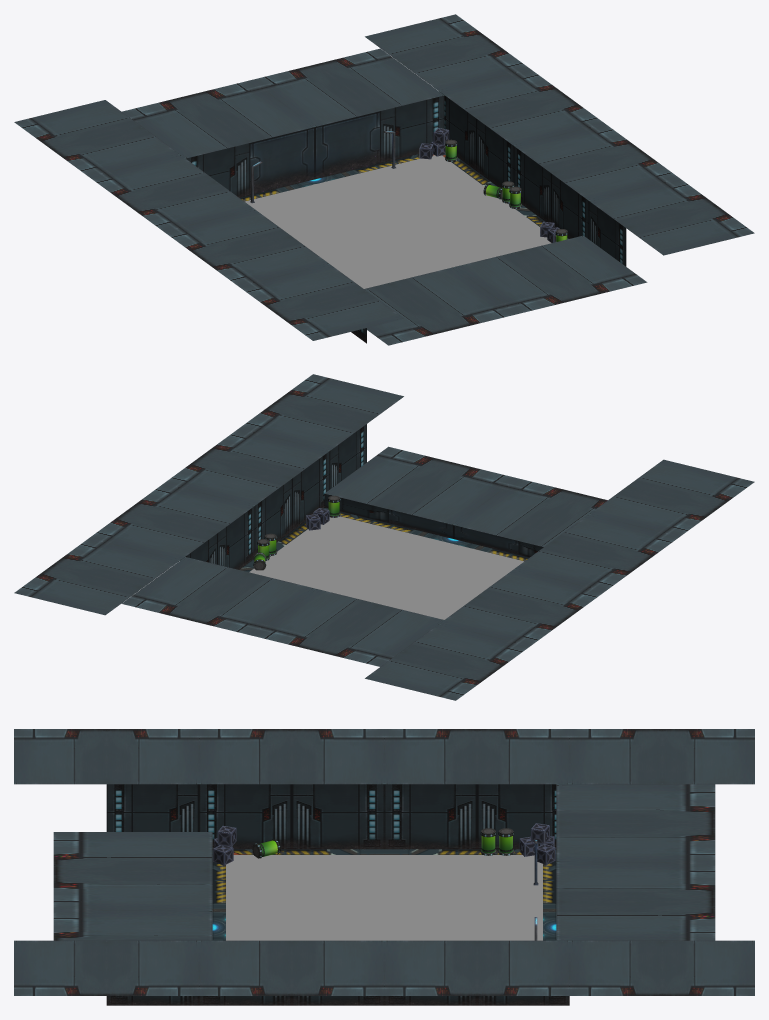
Rendered from last background_sujung.FBX.
The picture shows the model from 3 angles, top to bottom: view 1: azimuth 30°, elevation 25°; view 2: azimuth 150°, elevation 25°; view 3: azimuth 270°, elevation 25°; orthographic projection. The views are drawn at different scales.
Visible parts, largest first — view 1: wall, badak001, badak; view 2: wall, badak001, badak; view 3: wall, badak001, badak.
Part boxes in pixels (<box>): wall: <box>14,14,754,345</box>; badak001: <box>244,155,551,288</box>; badak: <box>239,154,568,239</box>; wall: <box>14,374,754,700</box>; badak001: <box>249,516,523,619</box>; badak: <box>239,507,528,572</box>; wall: <box>14,729,754,1005</box>; badak001: <box>226,855,542,940</box>; badak: <box>212,849,556,940</box>.
Bounding box in the file's own units: 5903 × 6922 × 688.
